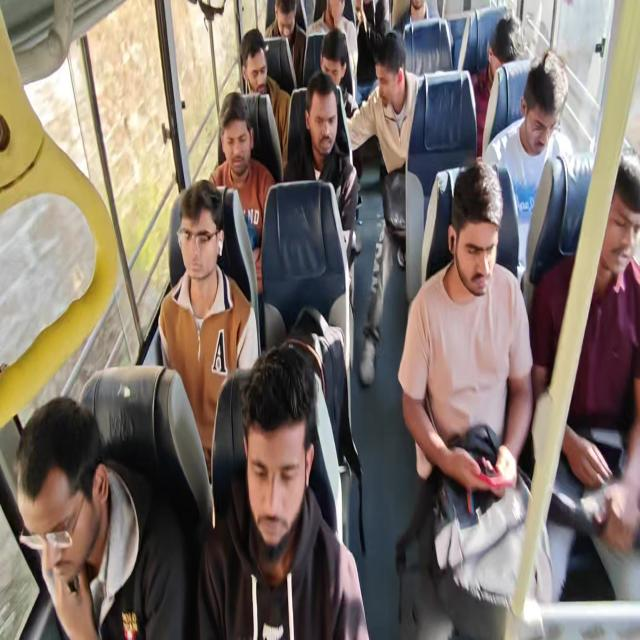person: (397, 160, 553, 638), (196, 346, 370, 638), (530, 148, 640, 602), (15, 395, 191, 639), (155, 179, 260, 485), (346, 28, 423, 386), (482, 50, 574, 282), (283, 70, 359, 260), (208, 91, 276, 294), (346, 29, 421, 175), (469, 14, 525, 158), (239, 28, 291, 166), (306, 0, 359, 96), (353, 0, 390, 105), (264, 0, 306, 87), (319, 28, 359, 118), (392, 0, 440, 37)
